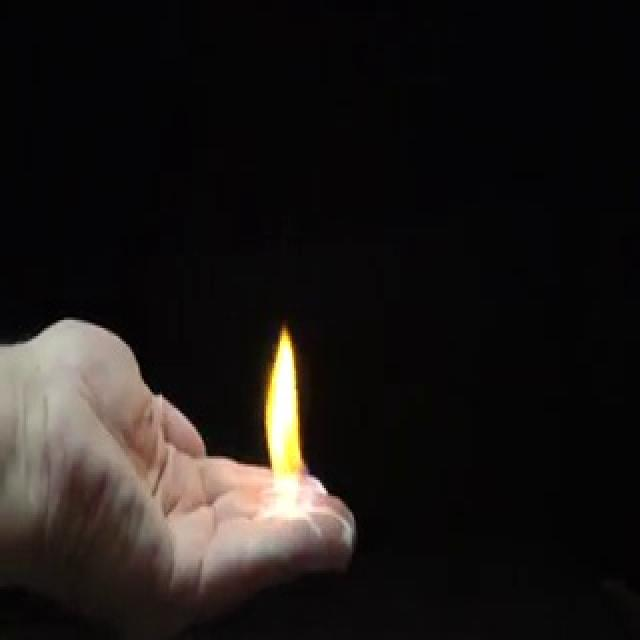fire: (255, 320, 319, 516)
